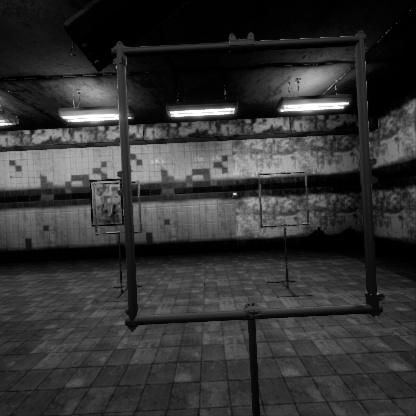gate: (97, 86, 382, 380), (254, 187, 310, 245), (89, 180, 143, 235)
